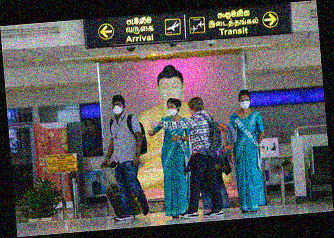with_mask: (112, 102, 125, 115), (240, 97, 252, 110), (168, 104, 178, 117)
without_mask: (188, 104, 199, 117)
